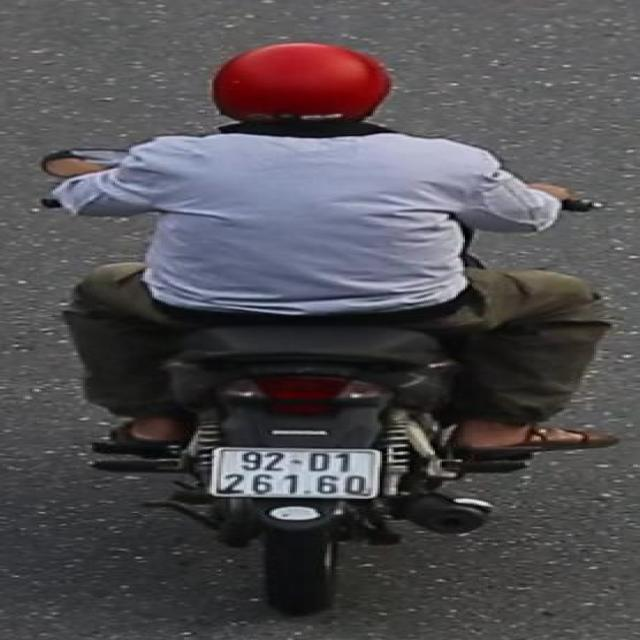LP: (204, 443, 388, 502)
helmet: (204, 36, 402, 144)
